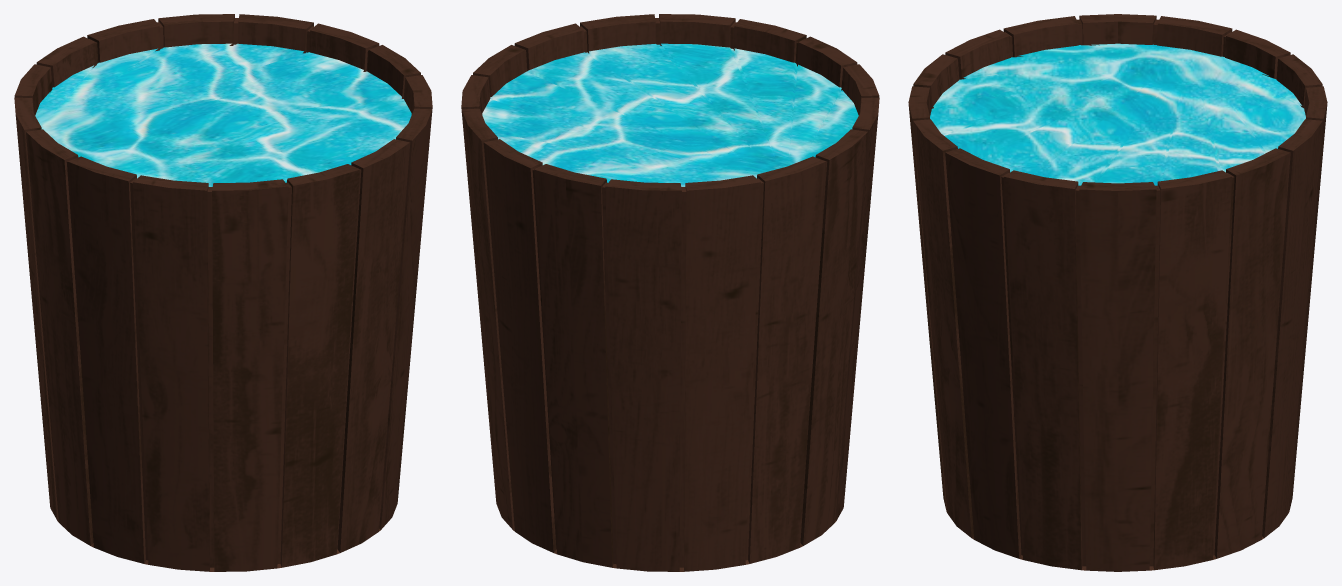
File: Bucket with Water.fbx
3 renders of one model, left to right at view 1: azimuth 30°, elevation 25°; view 2: azimuth 150°, elevation 25°; view 3: azimuth 270°, elevation 25°, orthographic.
Visible parts, largest first — view 1: Bucket, Bucket Water; view 2: Bucket, Bucket Water; view 3: Bucket, Bucket Water.
Boxes of the visible parts, left/top/right/bottom form: Bucket: left=14, top=14, right=432, bottom=571; Bucket Water: left=35, top=43, right=411, bottom=186; Bucket: left=461, top=14, right=879, bottom=571; Bucket Water: left=482, top=43, right=858, bottom=186; Bucket: left=908, top=14, right=1327, bottom=571; Bucket Water: left=930, top=43, right=1305, bottom=185.
Bounding box in the file's own units: 34.56 × 36 × 34.56.
